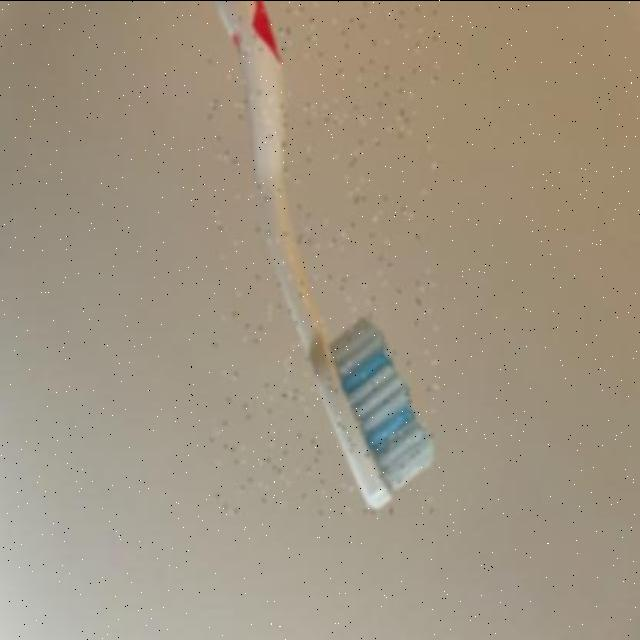toothbrush: (210, 0, 438, 512)
